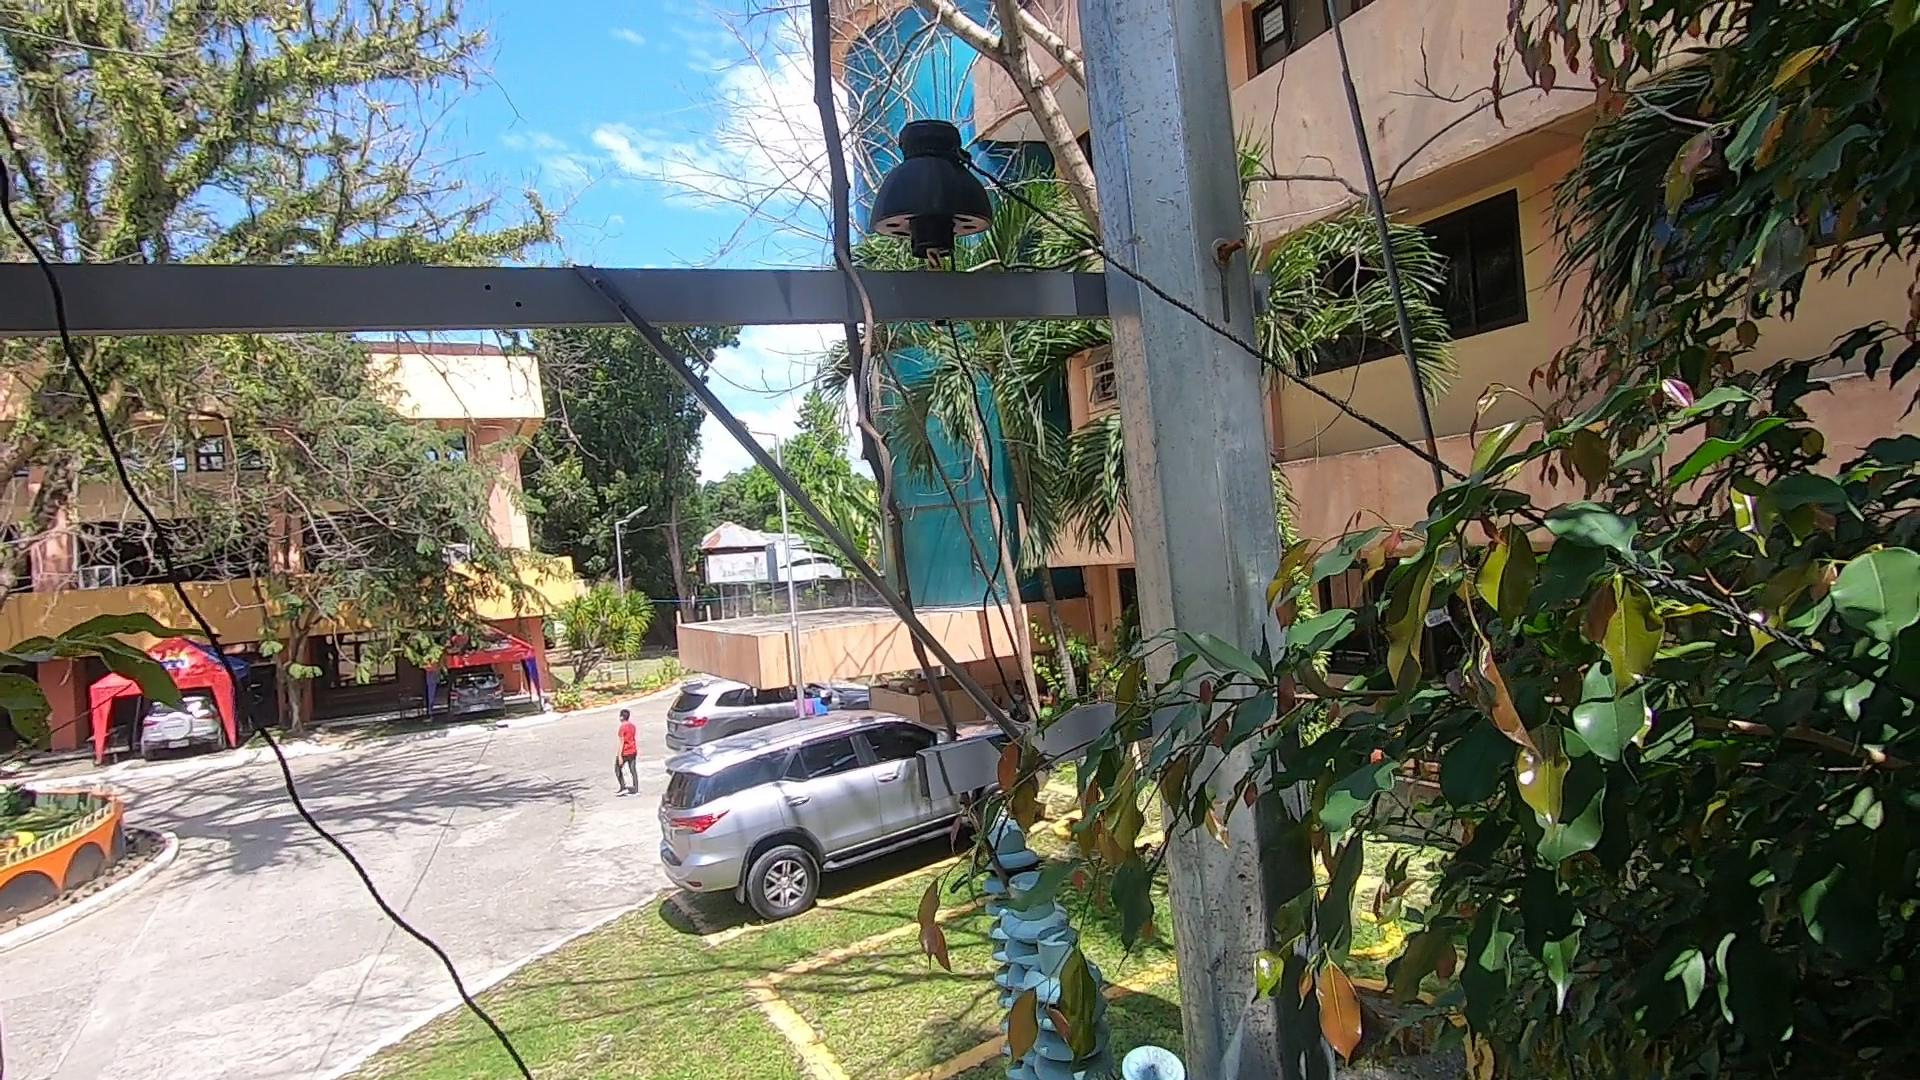branch with leaves: (886, 687, 1199, 1062)
tree branch: (749, 5, 1072, 796)
